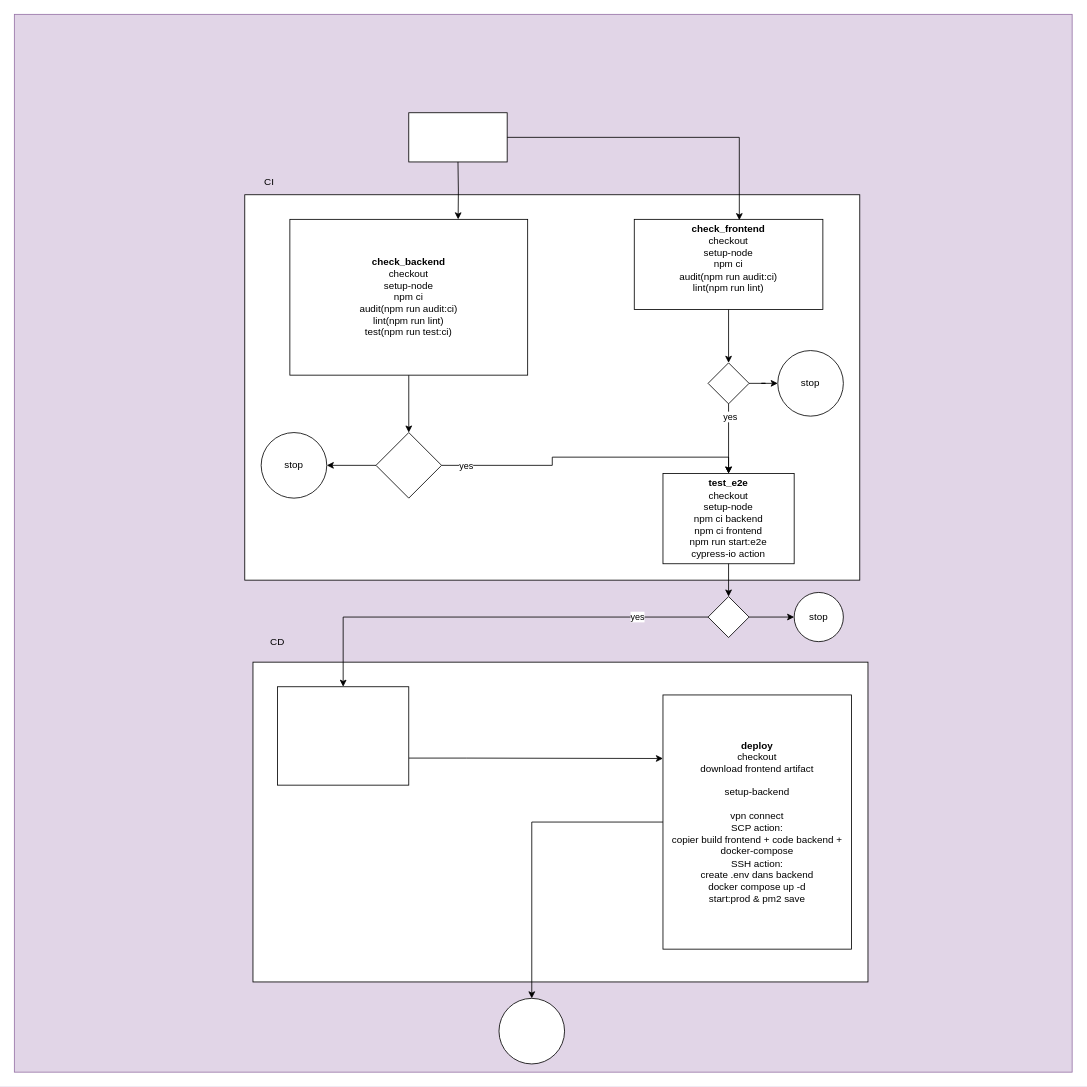
This 1087x1087 diagram has some shape labels left out. Each missing label, with the box of its shape:
build_frontend checkout setup-node npm ci npm run build:only artifact upload: (277, 686, 409, 785)
end: (498, 998, 565, 1064)
Event Push on main: (408, 112, 507, 162)
